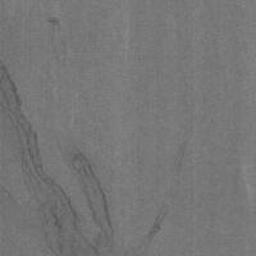Water spot: (0, 59, 170, 256), (172, 127, 196, 177), (49, 15, 69, 70)
